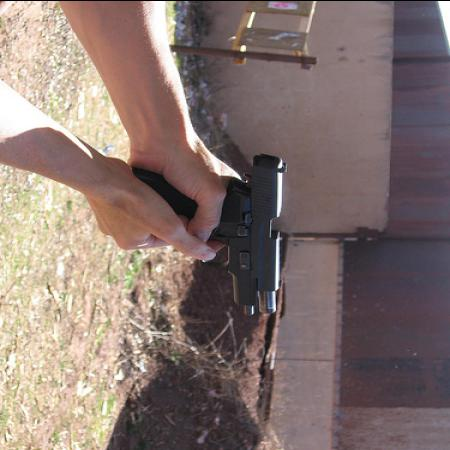Pistol: (131, 155, 288, 318)
